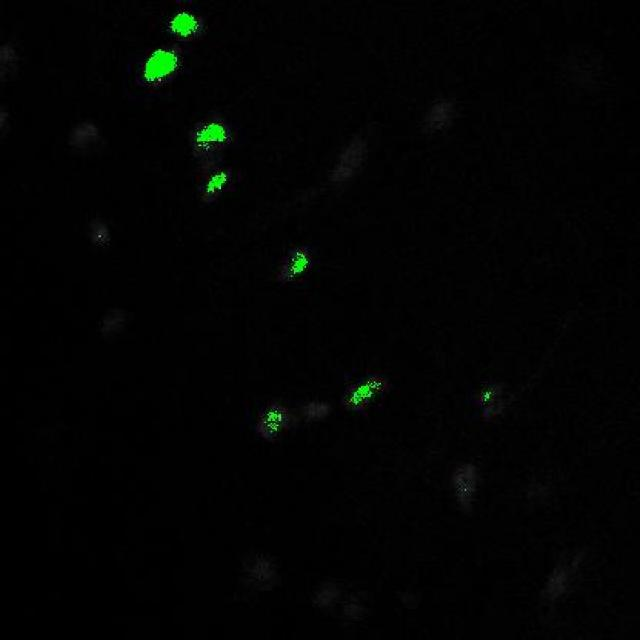Cell: (144, 50, 175, 80), (170, 12, 201, 38), (199, 123, 226, 146), (293, 253, 309, 277), (207, 172, 224, 194)
